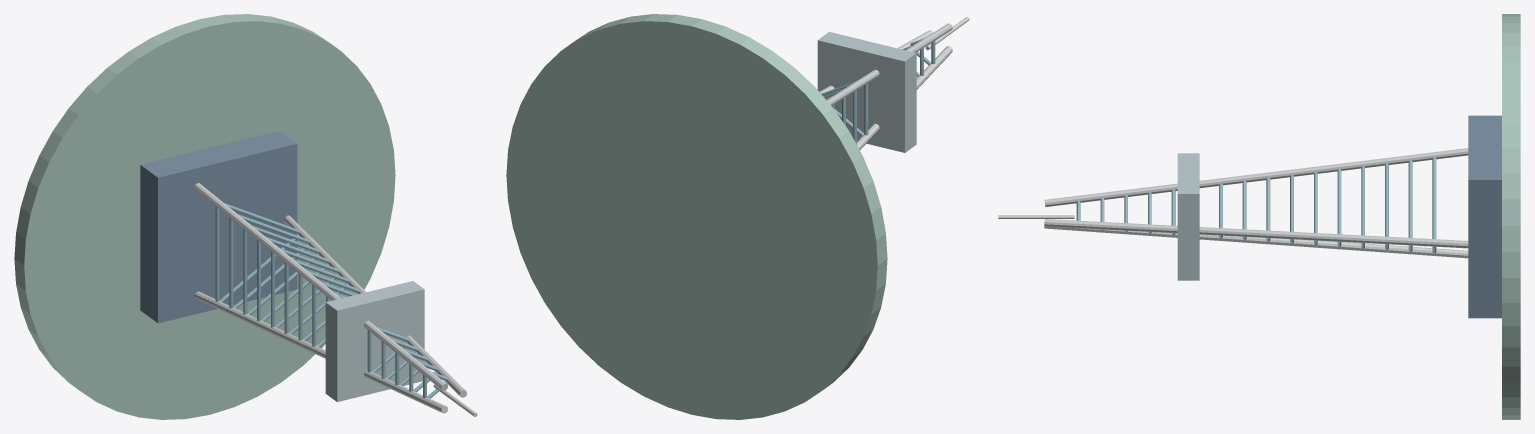
The model's file is tokyo_skytree.glb.
The picture shows the model from 3 angles, left to right: view 1: azimuth 30°, elevation 25°; view 2: azimuth 150°, elevation 25°; view 3: azimuth 270°, elevation 25°; orthographic projection. The views are drawn at different scales.
Parts seen in each view (by area): view 1: island, skytree_base, observation, support_1, support_2, support_0, ring_0.8_1, ring_1.1_1; view 2: island, observation, support_1, support_2; view 3: island, skytree_base, support_0, support_1, observation, support_2.
Boxes of the visible parts, bbox=[...] form: island: bbox=[14, 14, 395, 419]; skytree_base: bbox=[140, 131, 297, 323]; observation: bbox=[325, 281, 424, 401]; support_1: bbox=[194, 183, 447, 390]; support_2: bbox=[194, 291, 448, 413]; support_0: bbox=[284, 215, 466, 397]; ring_0.8_1: bbox=[215, 206, 219, 301]; ring_1.1_1: bbox=[229, 217, 233, 308]; island: bbox=[506, 14, 887, 419]; observation: bbox=[817, 32, 916, 152]; support_1: bbox=[826, 23, 952, 105]; support_2: bbox=[857, 46, 952, 149]; island: bbox=[1502, 14, 1520, 419]; skytree_base: bbox=[1468, 115, 1501, 318]; support_0: bbox=[1044, 219, 1468, 248]; support_1: bbox=[1044, 148, 1468, 206]; observation: bbox=[1177, 153, 1199, 280]; support_2: bbox=[1044, 226, 1468, 258].
Size of the model in its own units: 4.8 by 4.8 by 6.17.
